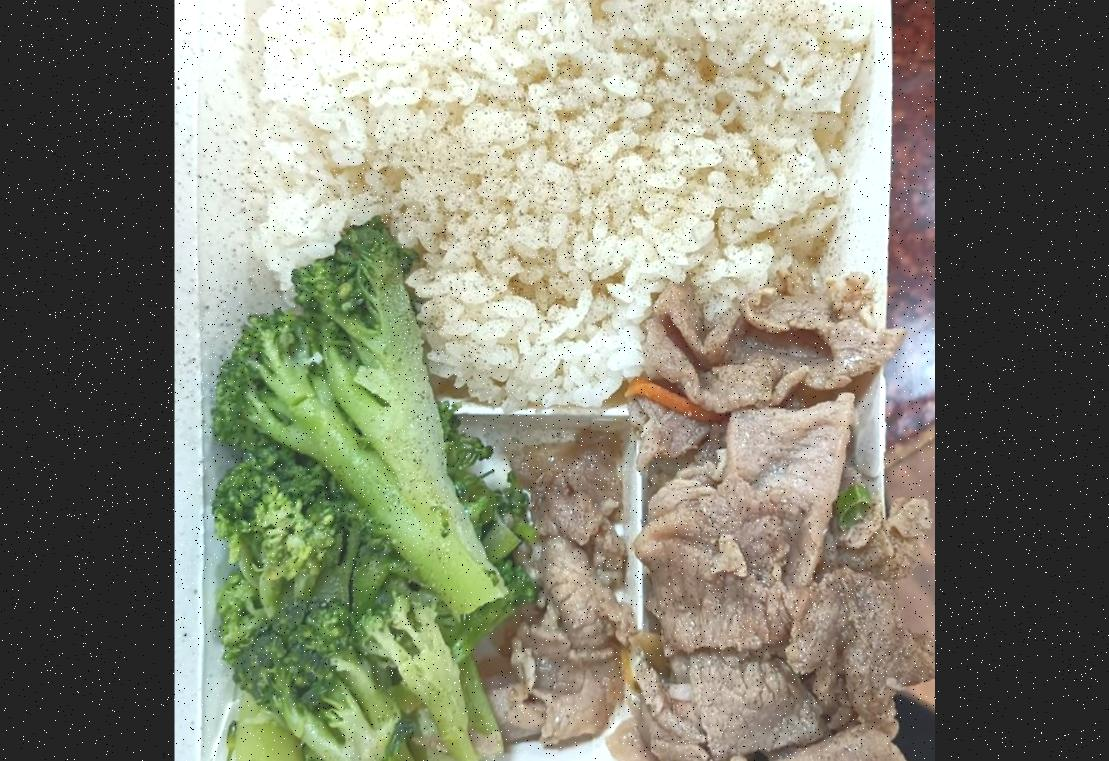box: (202, 0, 920, 761)
side dish: (201, 222, 529, 761)
thai pork: (490, 263, 925, 761)
white rice: (242, 0, 864, 393)
